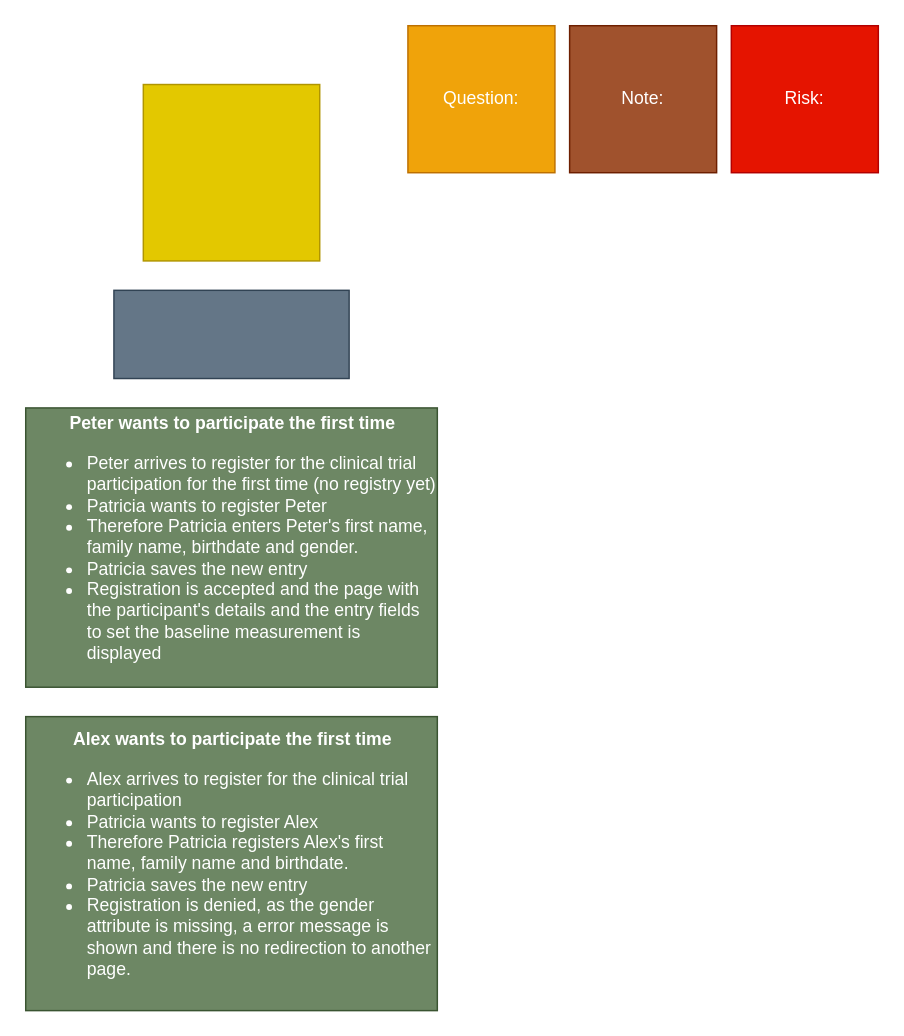
The diagram is 904 pixels wide and 1036 high, and some of its shapes have lost their labels. Here are the shapes that lost their labels. From the top down, the box of each, then its label:
(142, 83, 320, 261): Redirection to the Participant Page
(112, 289, 349, 379): Redirection after successfull registration
